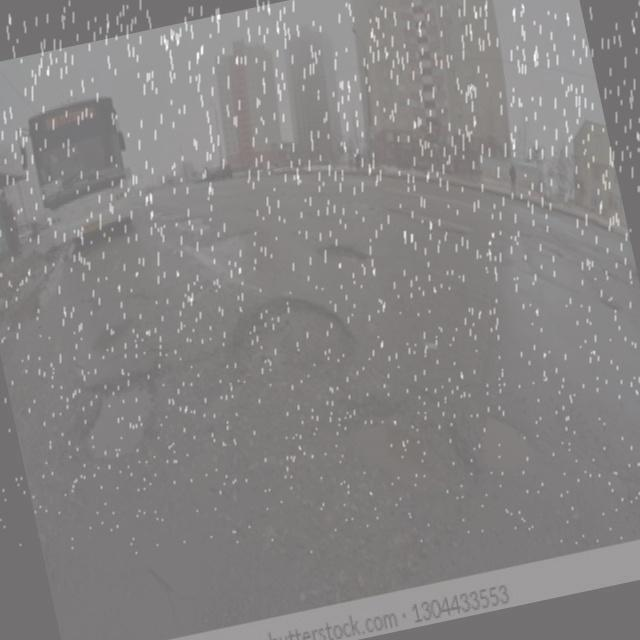Pothole: (348, 388, 583, 514), (239, 284, 365, 391), (72, 372, 166, 482), (153, 216, 253, 264), (307, 221, 373, 270), (392, 195, 467, 237), (504, 236, 566, 278)
